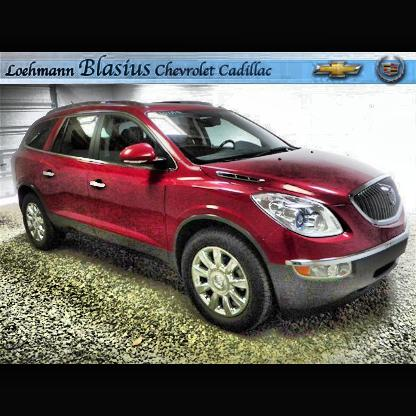Buick Enclave SUV 2012: (12, 100, 411, 332)
